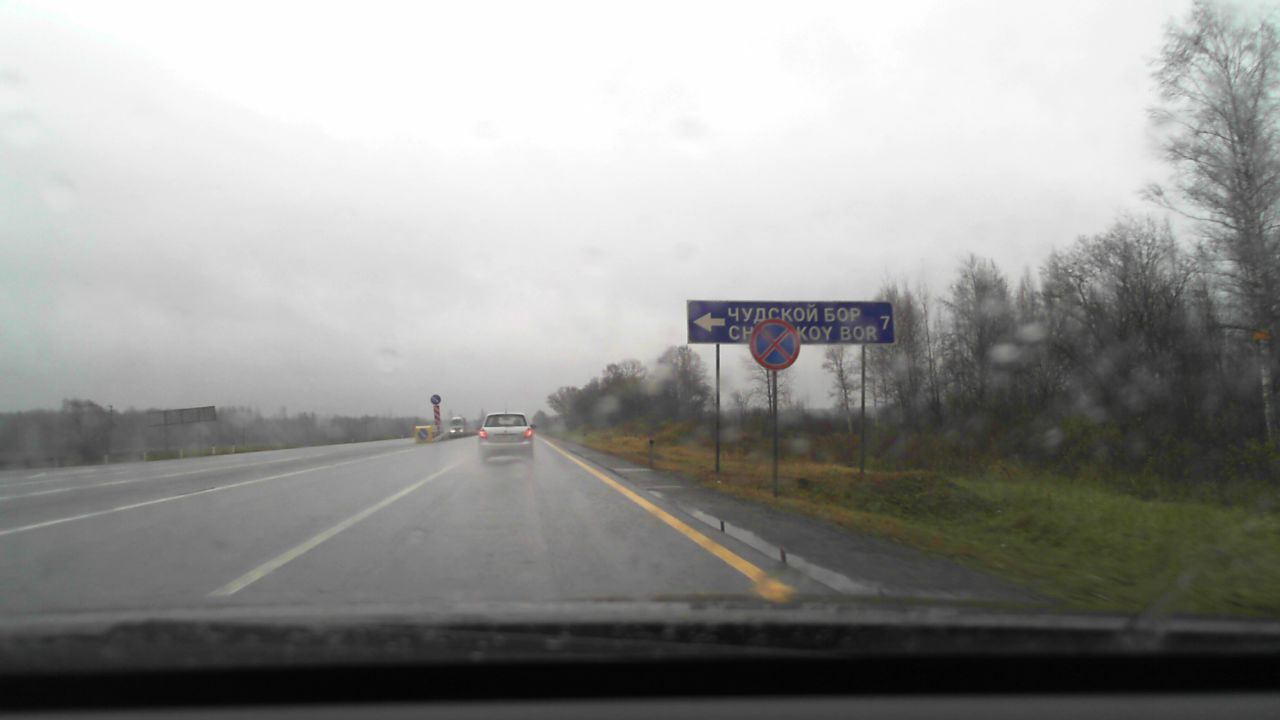No Parking: (750, 319, 799, 369)
